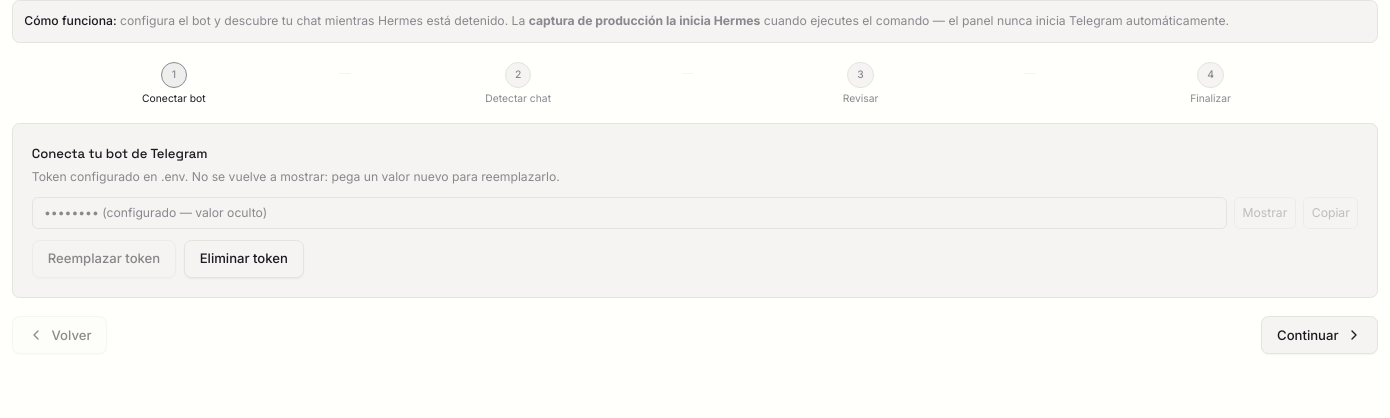
IdeaCapturePanel — Conectar bot (token) › replaces and clears an existing token with a two-step confirmation
The image size is (1390, 418).
Expected: the text "configurado en .env" is shown, [32,169,560,184]
Expected: the button "Reemplazar token" is shown, [32,240,176,278]
Click the button "Eliminar token".
click(244, 259)  # box [184,240,304,278]
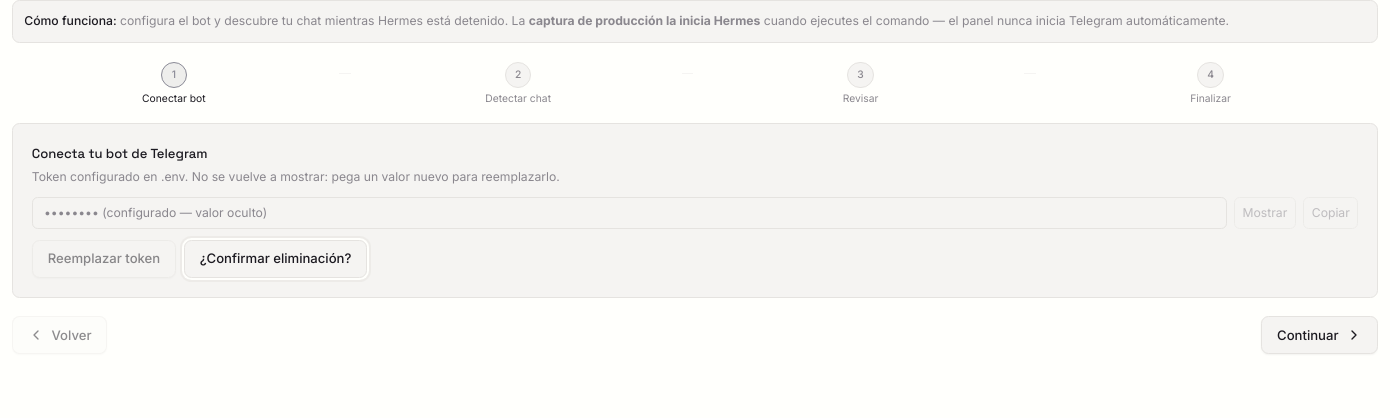
Click the button "¿Confirmar eliminación?".
click(276, 259)  # box [184,240,367,278]
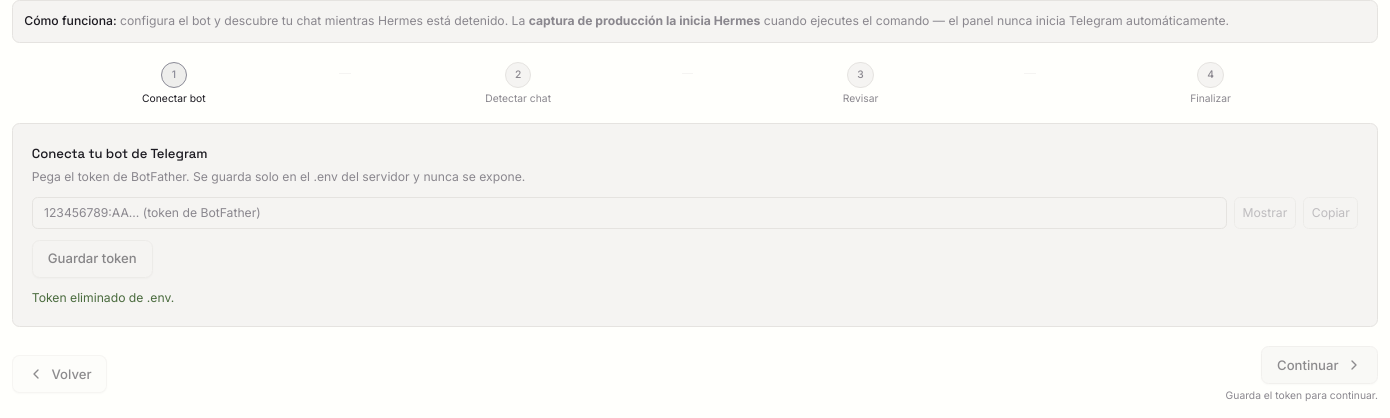
Expected: the text "Token eliminado de .env." is shown, [32,290,174,305]
